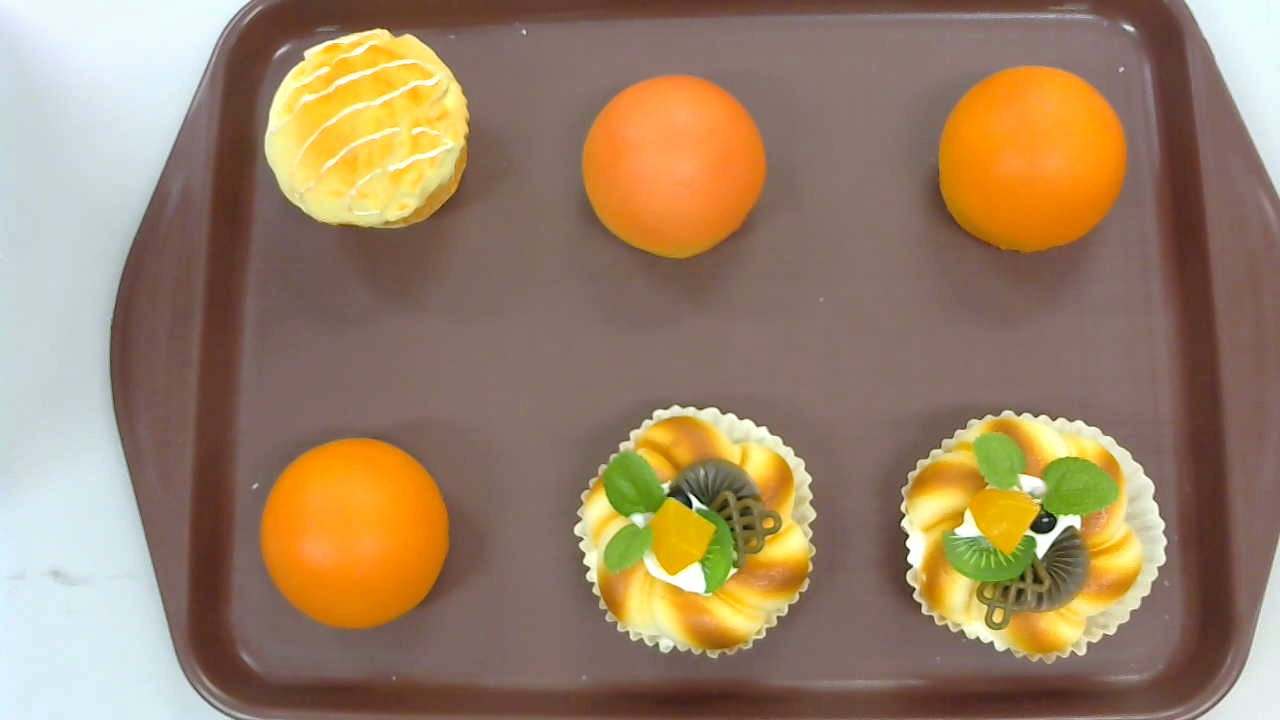bun: (260, 438, 450, 630), (938, 66, 1127, 252), (582, 74, 767, 260)
cupcake: (263, 28, 469, 230)
fruit tart: (897, 409, 1168, 665), (572, 404, 820, 658)
